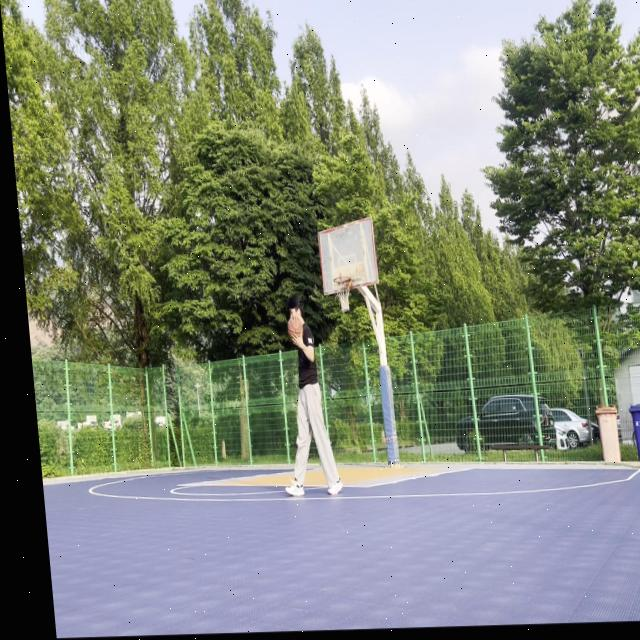basketball: (286, 315, 305, 344)
hoop: (333, 275, 354, 313)
